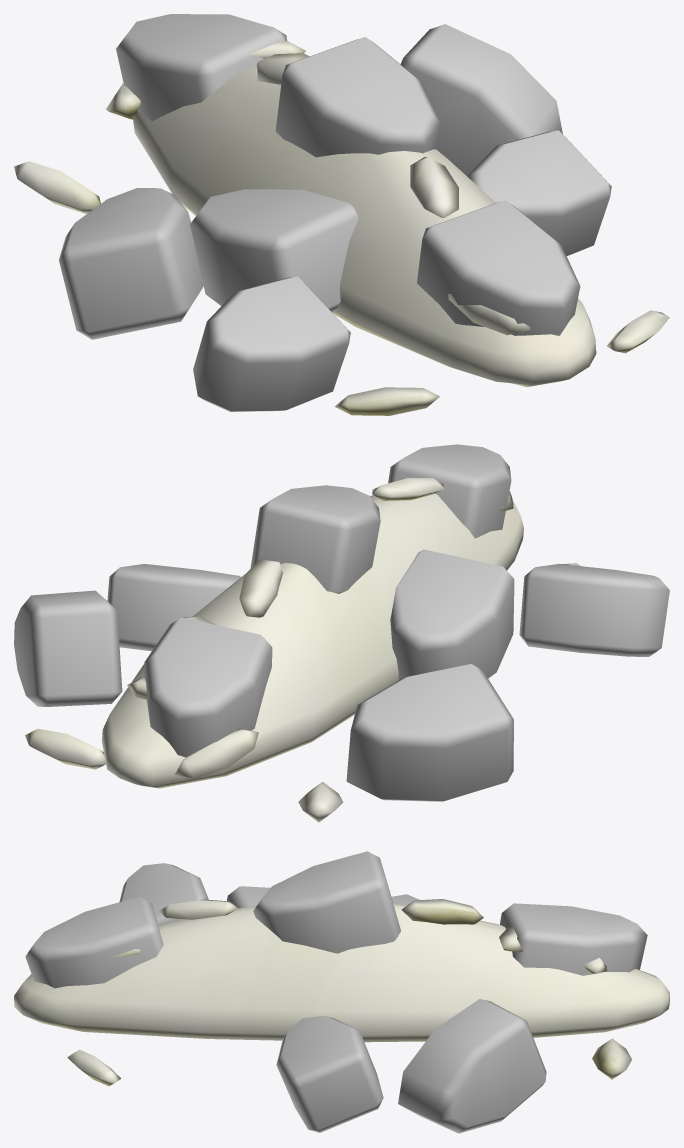
File: Rice_Fish.fbx
3 renders of one model, top to bottom at view 1: azimuth 30°, elevation 25°; view 2: azimuth 150°, elevation 25°; view 3: azimuth 270°, elevation 25°, orthographic. The views are drawn at different scales.
Parts seen in each view (by area): view 1: m_plated_rice_fish_01; view 2: m_plated_rice_fish_01; view 3: m_plated_rice_fish_01.
Part boxes in pixels (x1,y1,x2,y2): m_plated_rice_fish_01: [14, 14, 669, 415]; m_plated_rice_fish_01: [14, 444, 669, 822]; m_plated_rice_fish_01: [14, 851, 669, 1133].
Bounding box in the file's own units: 76.86 × 34.4 × 101.
